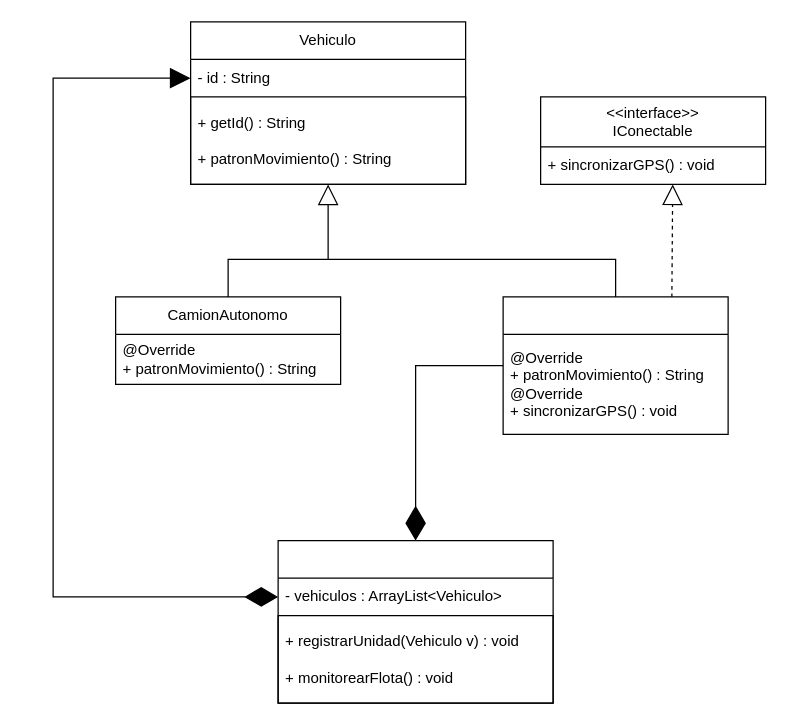
This 788x725 diagram has some shape labels left out. Here are the shapes that lost their labels. From the top down, the box of each, then its label:
(502, 296, 728, 434): DronTransporte
(277, 539, 553, 703): CentroControl
